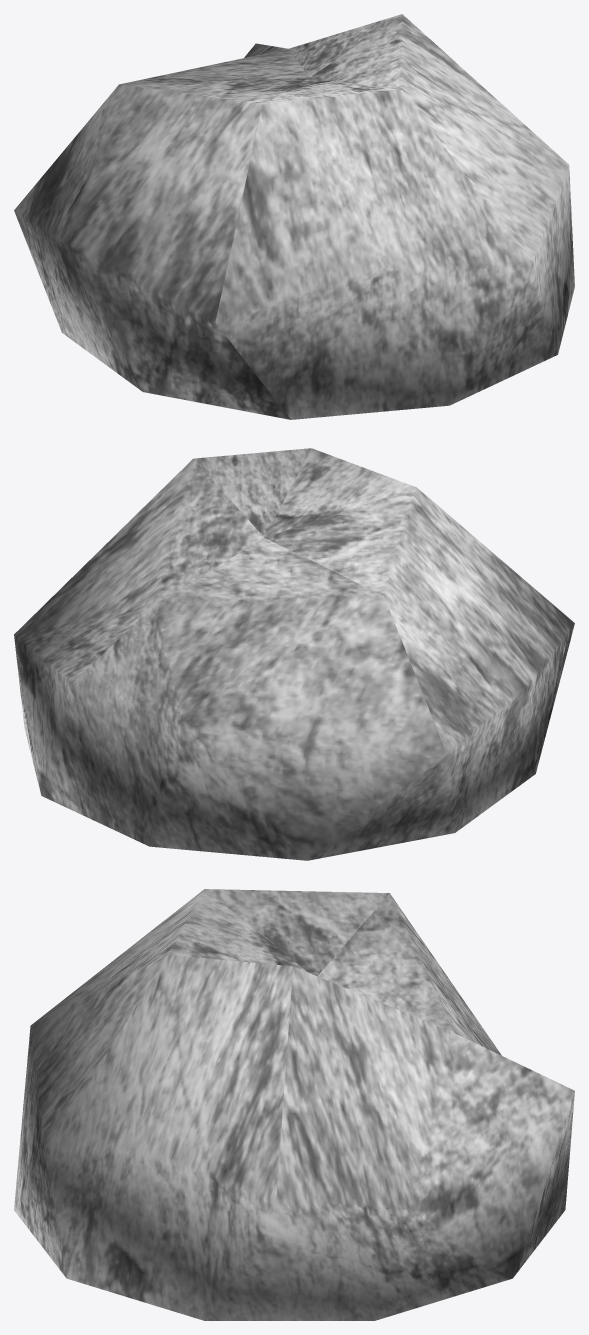
Rendered from LRockLowPoly.fbx.
3 views of the same model, one above another, from view 1: azimuth 30°, elevation 25°; view 2: azimuth 150°, elevation 25°; view 3: azimuth 270°, elevation 25° (orthographic). The views are drawn at different scales.
Visible parts, largest first — view 1: Icosphere; view 2: Icosphere; view 3: Icosphere.
Part boxes in pixels (bbox=[...]): Icosphere: bbox=[14, 14, 574, 419]; Icosphere: bbox=[14, 448, 574, 860]; Icosphere: bbox=[14, 889, 574, 1320].
Bounding box in the file's own units: 323 × 182 × 321.
